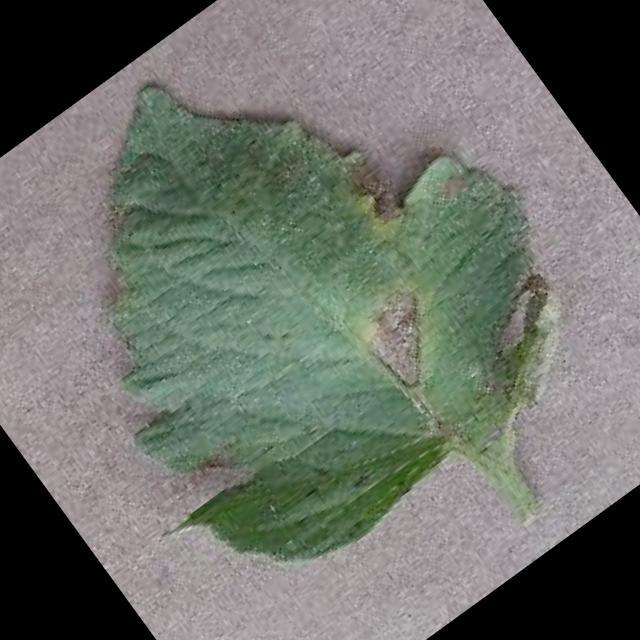Tomato Early blight leaf: (0, 0, 624, 636)
